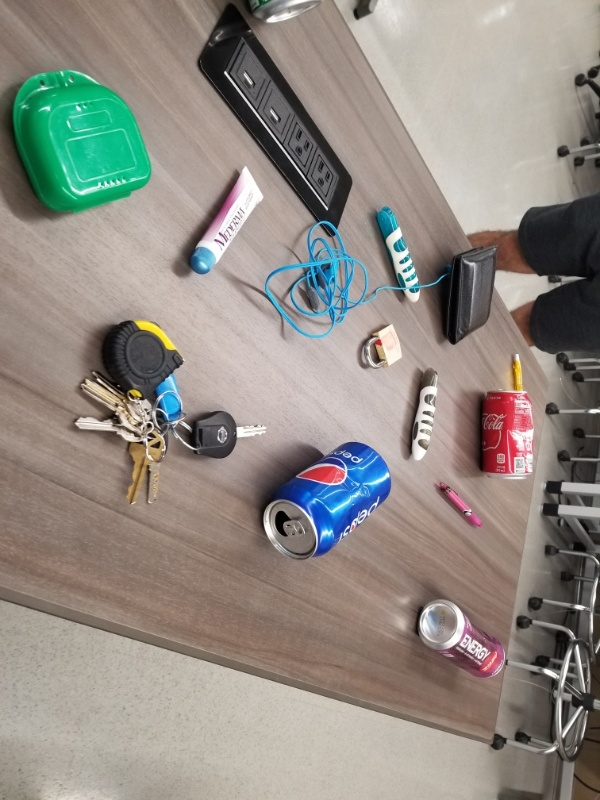can: (262, 440, 395, 562), (416, 595, 508, 682), (475, 387, 538, 481)
